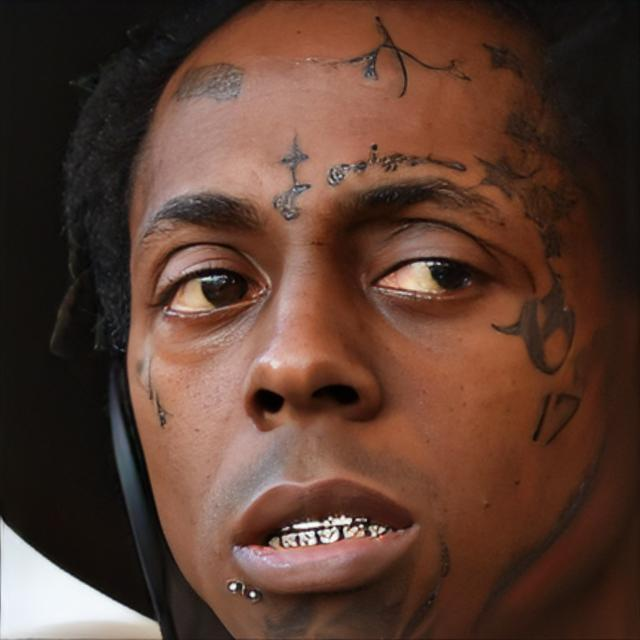anger: (120, 24, 562, 640)
